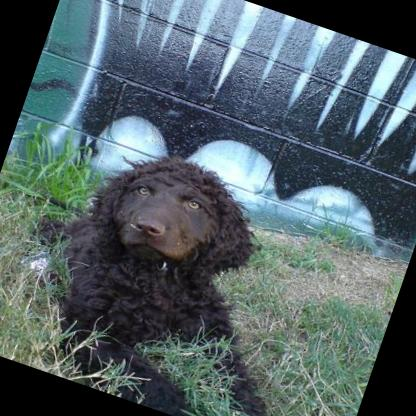Irish_water_spaniel: (0, 116, 360, 416)
